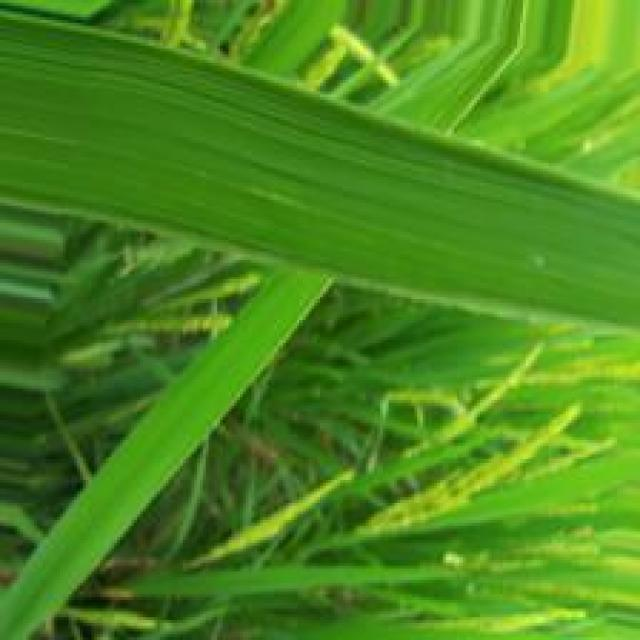HealthyLeaf: (5, 22, 638, 322)
